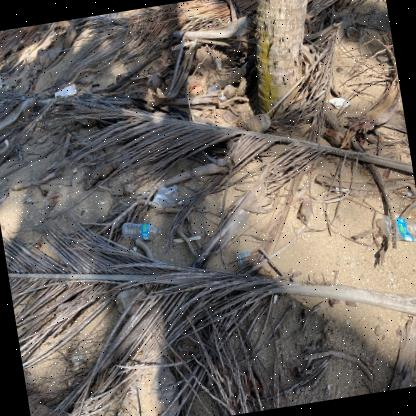Clear plastic bottle: (379, 214, 416, 241), (122, 222, 162, 240), (160, 184, 179, 205)
Disposable plastic cup: (152, 187, 166, 206), (207, 83, 221, 95)
Plastic utensils: (173, 235, 200, 242)
Unlabeled litter: (55, 82, 76, 97), (235, 248, 249, 266), (329, 96, 348, 109), (171, 41, 190, 50), (0, 75, 7, 90)
